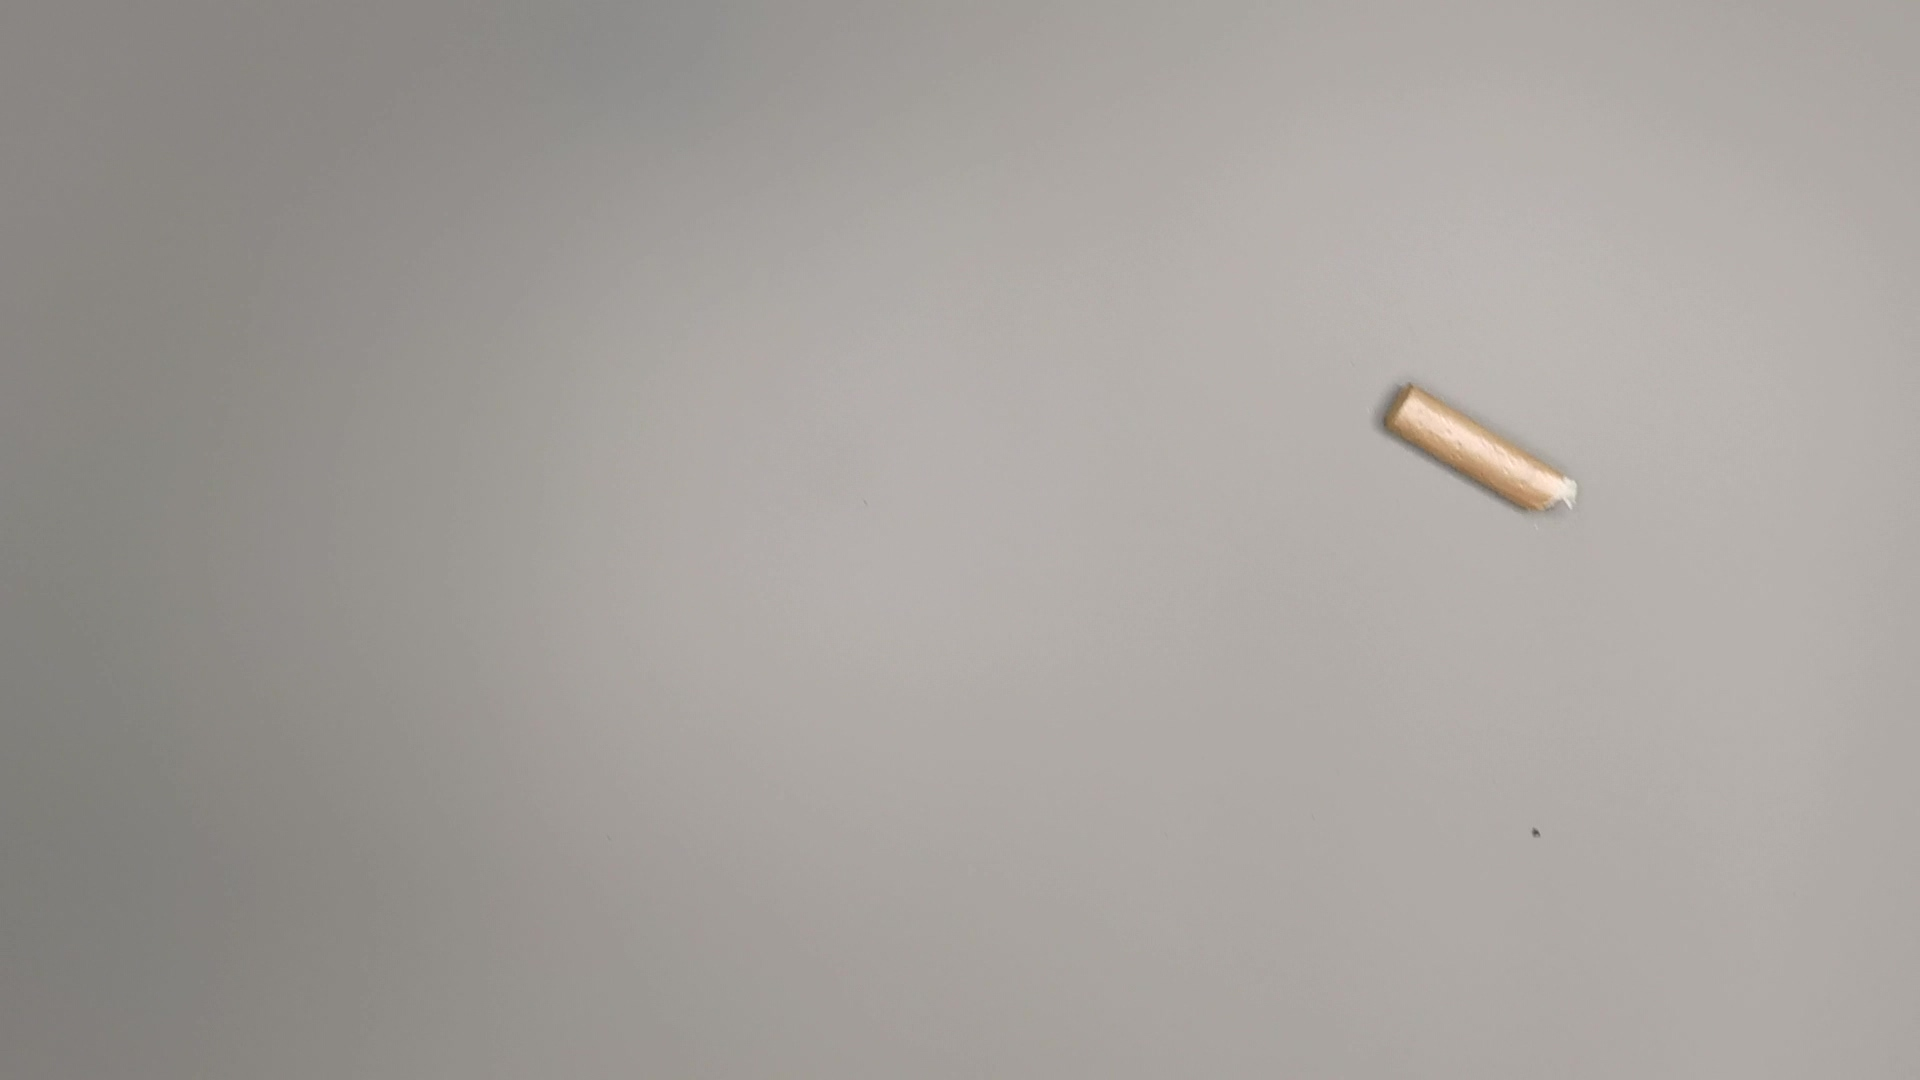cigarette: (1375, 378, 1586, 516)
